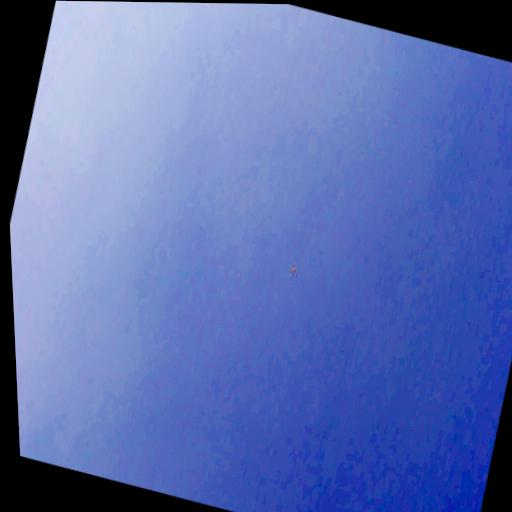drones: (285, 261, 301, 282)
